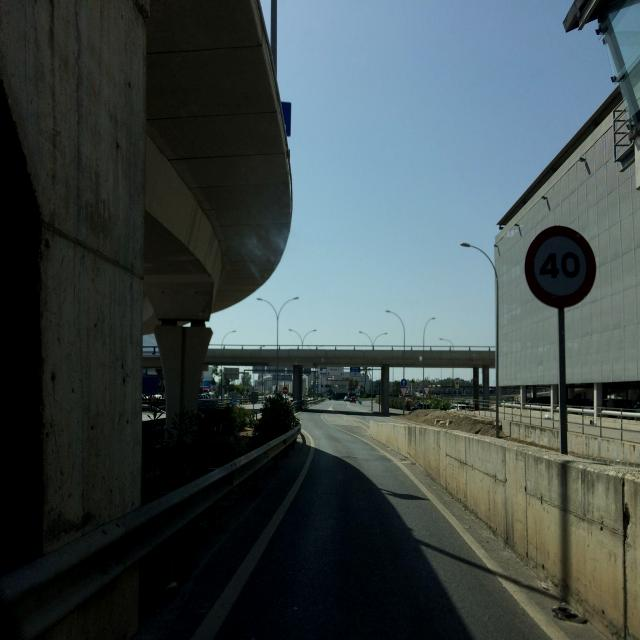car: (348, 394, 360, 404)
